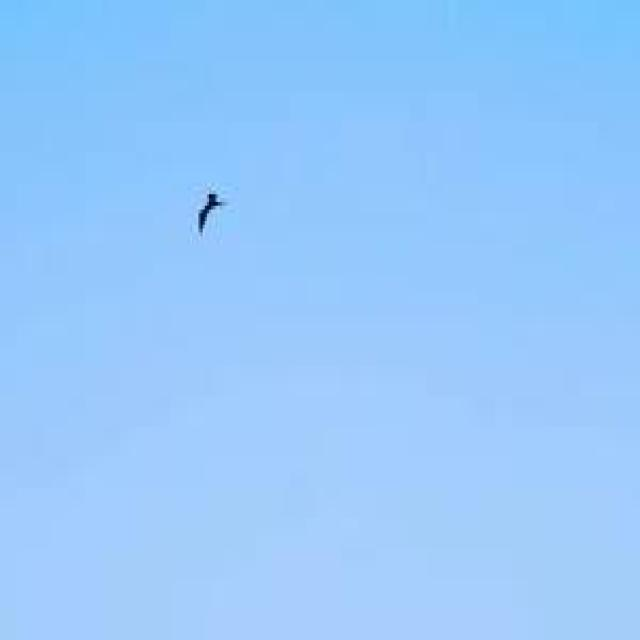bird: (192, 176, 231, 241)
